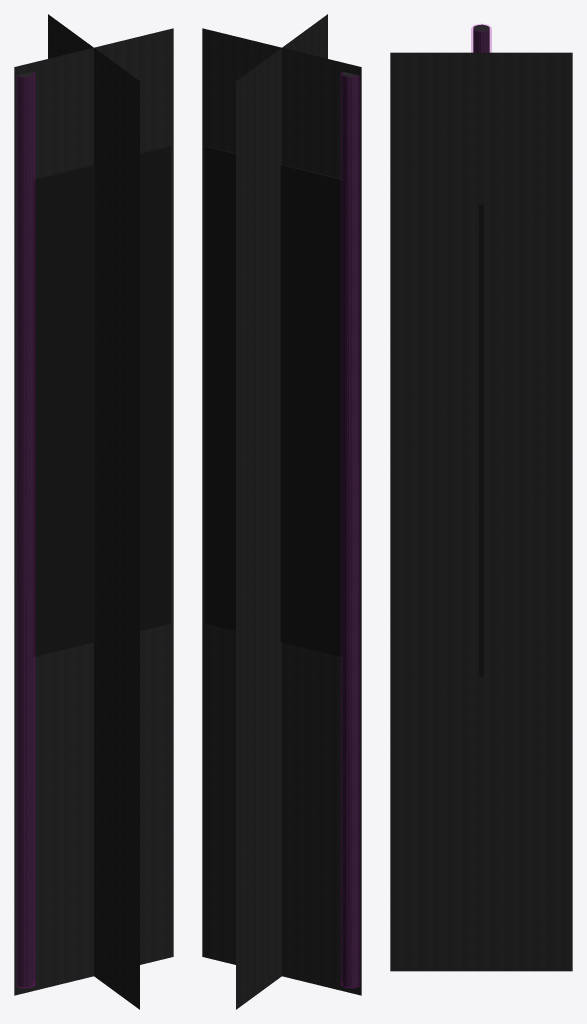
File: featherflag_blank_black.dae
3 views of the same model, side by side, from view 1: azimuth 30°, elevation 25°; view 2: azimuth 150°, elevation 25°; view 3: azimuth 270°, elevation 25° (orthographic).
Parts seen in each view (by area): view 1: featherflag_blank_black_a50, featherflag_blank_black_a800, Colmesh_pole-1, featherflag_blank_black_a200; view 2: featherflag_blank_black_a50, featherflag_blank_black_a800, Colmesh_pole-1, featherflag_blank_black_a200; view 3: featherflag_blank_black_a50, featherflag_blank_black_a800.
Boxes of the visible parts, bbox=[...] form: featherflag_blank_black_a50: bbox=[14, 14, 173, 1009]; featherflag_blank_black_a800: bbox=[18, 72, 170, 987]; Colmesh_pole-1: bbox=[16, 72, 34, 987]; featherflag_blank_black_a200: bbox=[17, 72, 32, 987]; featherflag_blank_black_a50: bbox=[202, 14, 361, 1009]; featherflag_blank_black_a800: bbox=[205, 72, 357, 987]; Colmesh_pole-1: bbox=[341, 72, 359, 987]; featherflag_blank_black_a200: bbox=[344, 73, 358, 987]; featherflag_blank_black_a50: bbox=[390, 52, 572, 971]; featherflag_blank_black_a800: bbox=[473, 25, 489, 676].
Bounding box in the file's own units: 0.77 × 0.77 × 4.28.
Materials: 3 (2 with a texture image).
